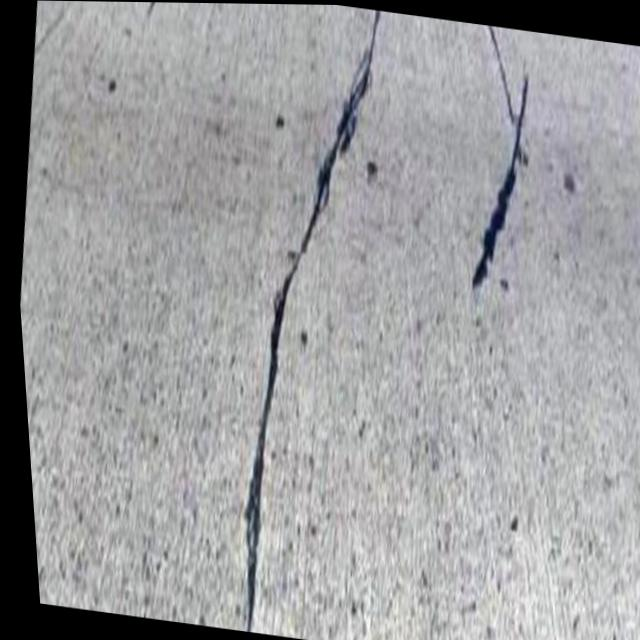Crack: (96, 1, 443, 640), (376, 17, 570, 308)
